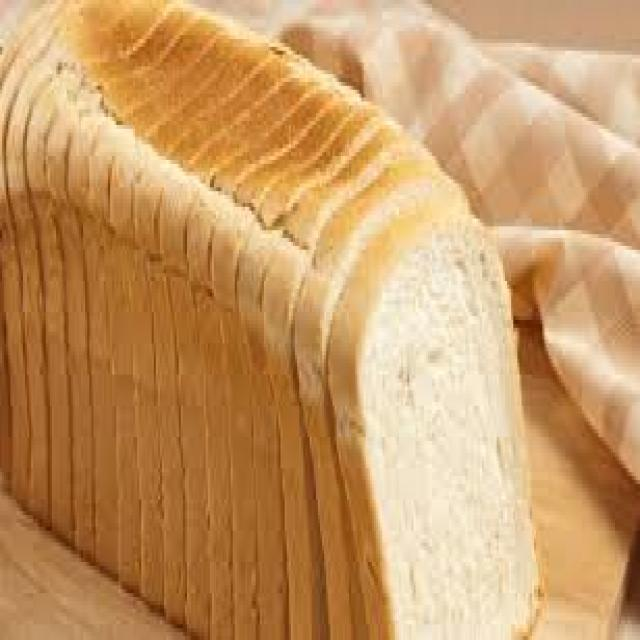organic waste: (0, 0, 542, 636), (326, 199, 540, 636)
